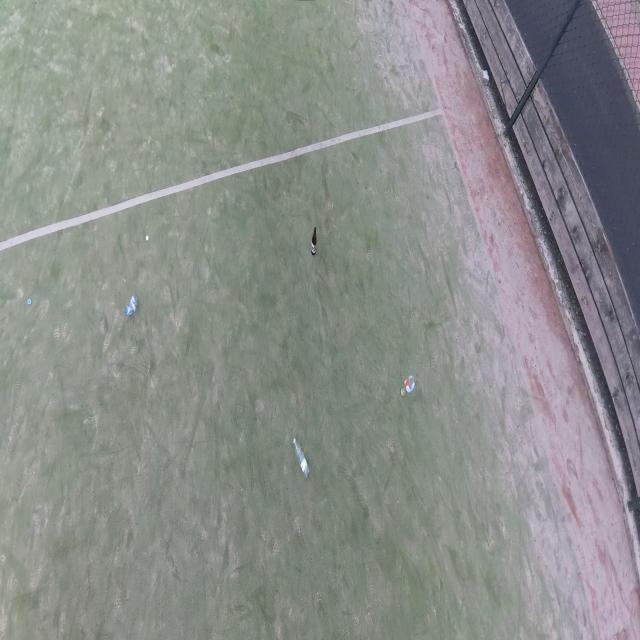rubbish: (293, 438, 310, 480), (400, 374, 415, 397), (123, 294, 138, 315), (310, 227, 318, 255), (27, 298, 31, 304), (145, 235, 148, 240)
